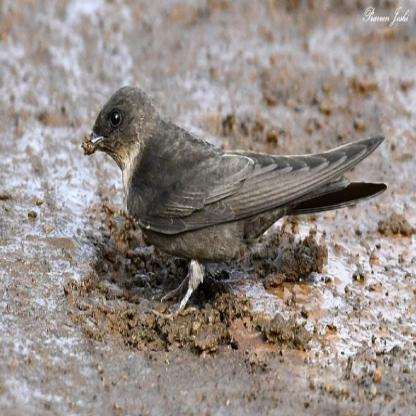Burung: (85, 84, 385, 318)
